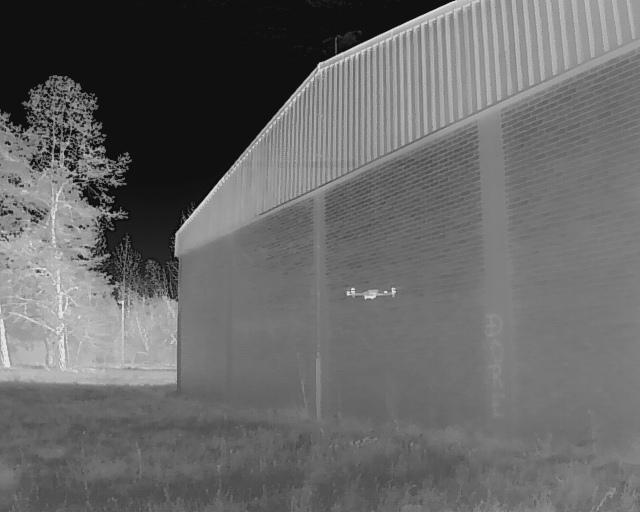drone: (342, 278, 403, 310)
